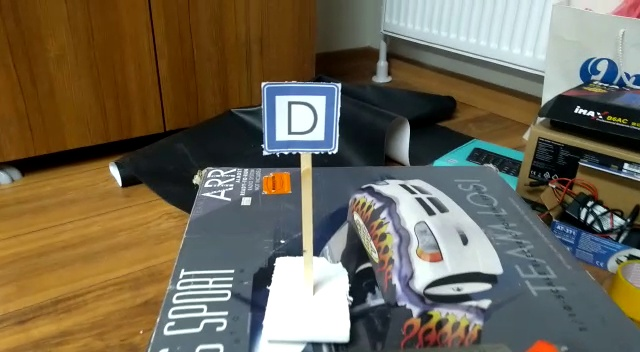durak: (261, 80, 337, 157)
